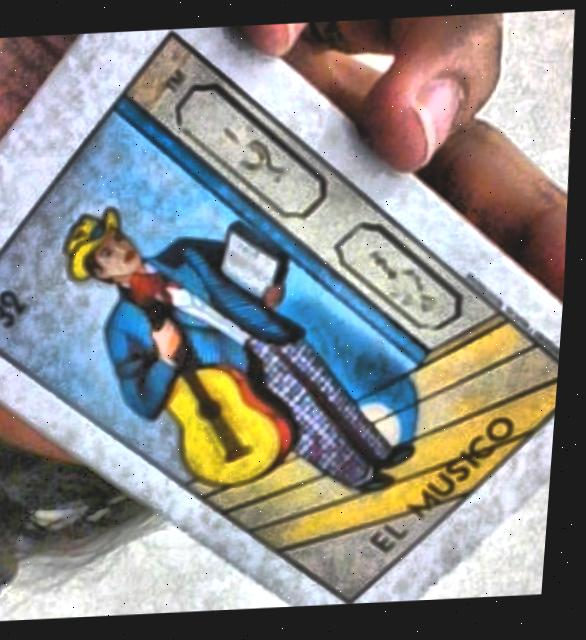El Musico: (0, 37, 564, 603)
